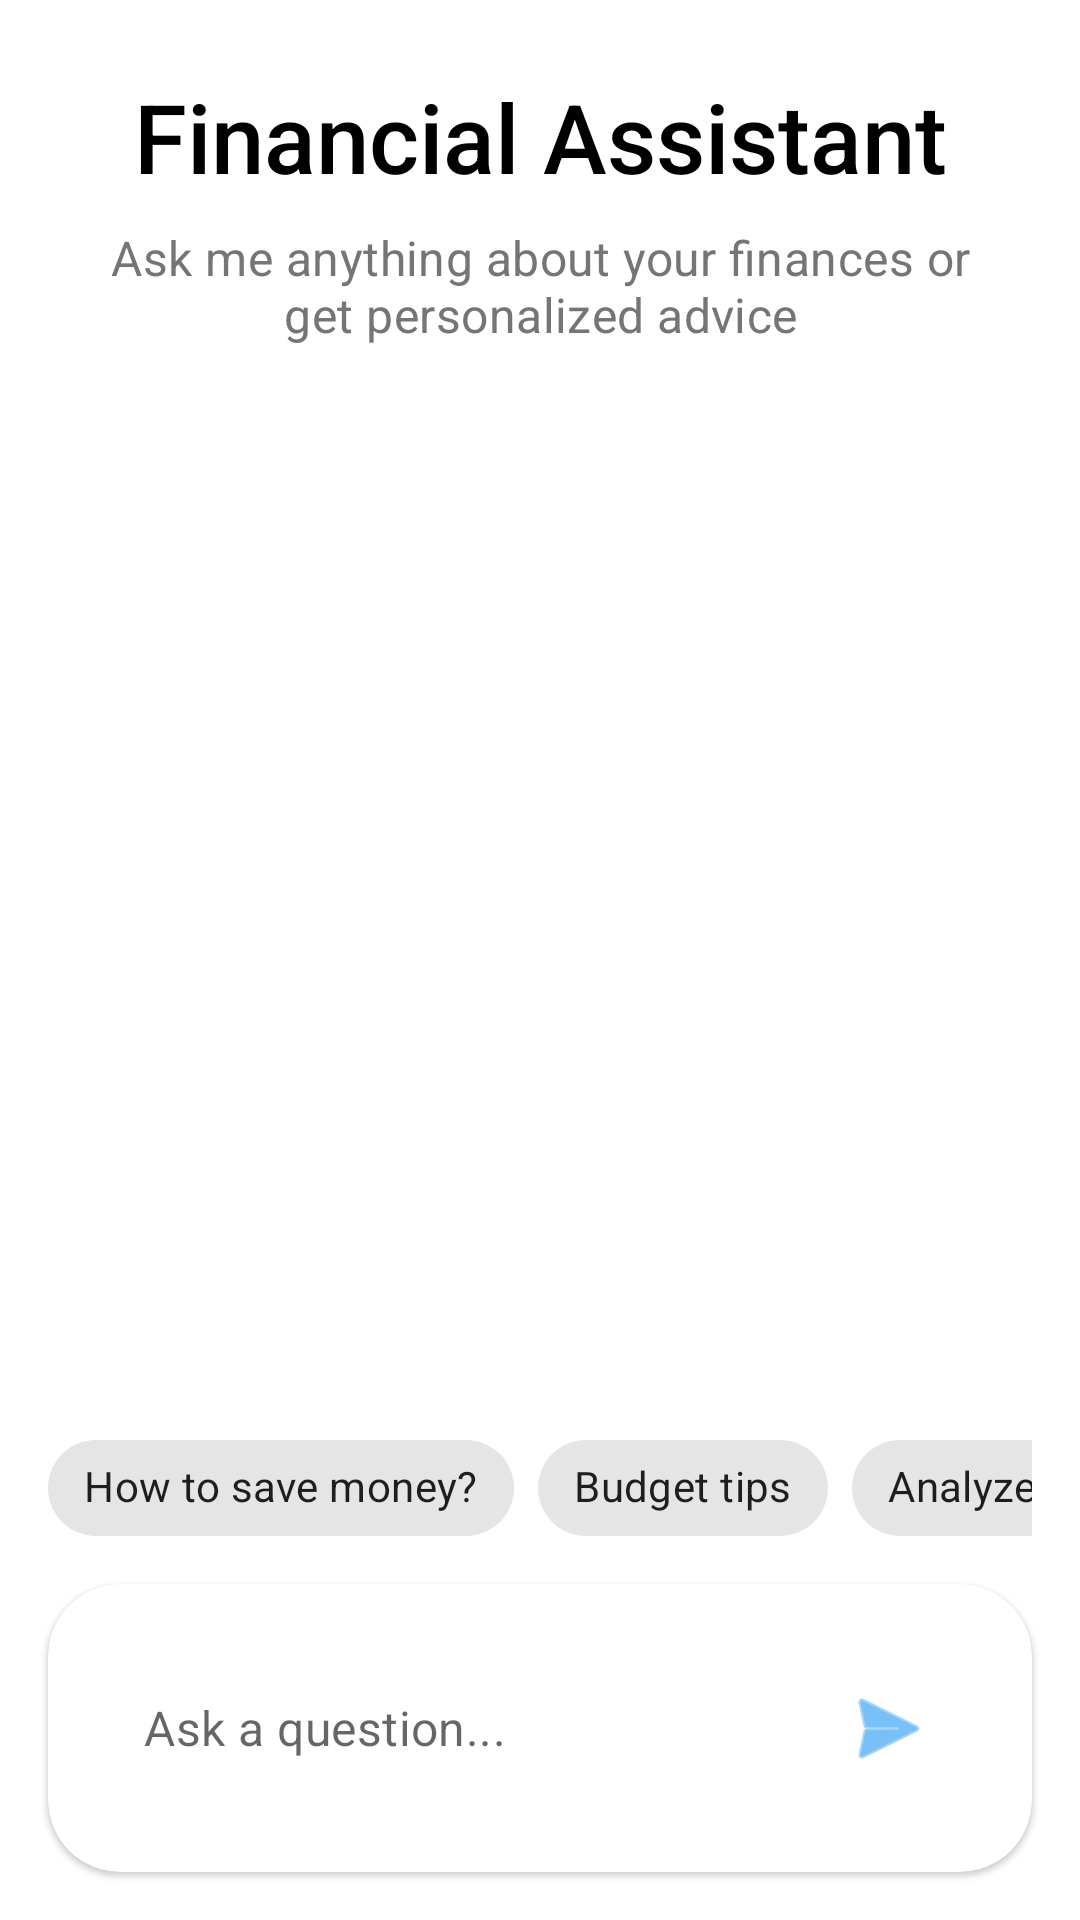

Icon bounding boxes for this 1080*1920 phone screenshot, format (x1, y1, x2, y2):
Send message: (858, 1698, 920, 1759)
